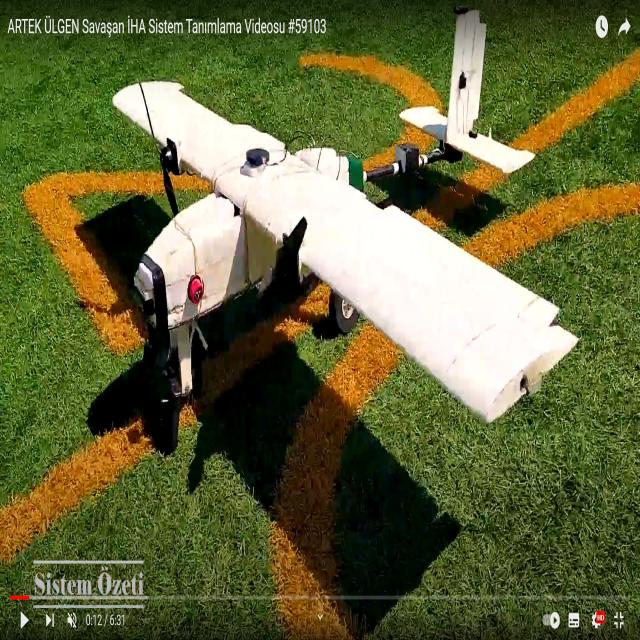iha: (111, 24, 581, 412)
